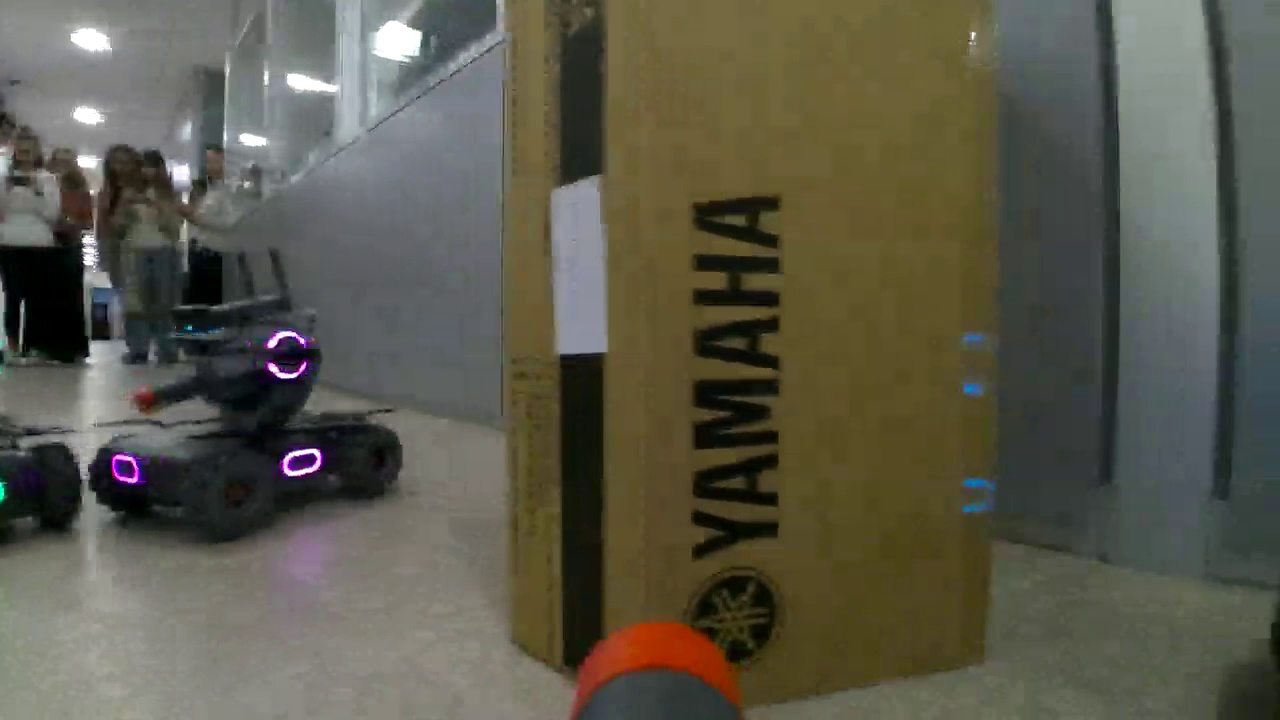robot: (89, 288, 403, 546)
